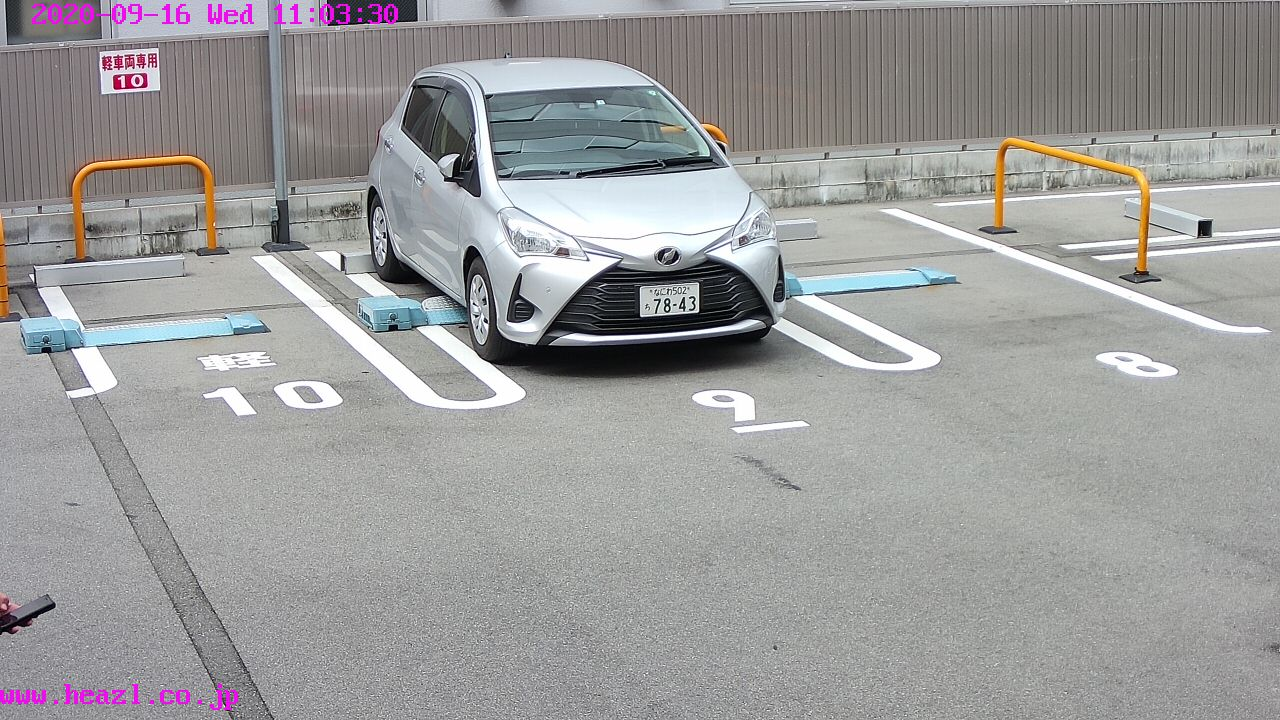number_plate: (638, 286, 701, 315)
